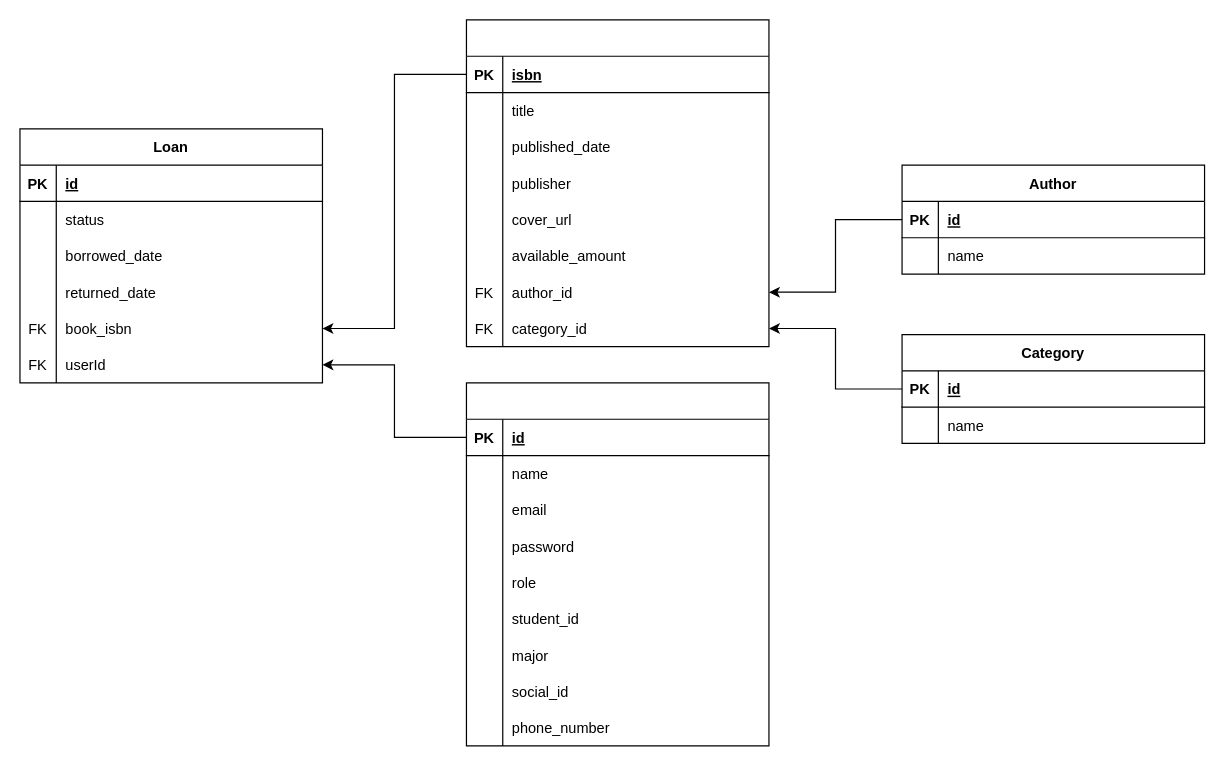
Image size: 1225x766. Some labels were removed from this diagram. The shapes that lost their labels are listed below. From the top down, each one's box as (x1, y1, x2, y2) in pixels, then its label:
(465, 19, 769, 347): Book
(465, 382, 769, 746): User
